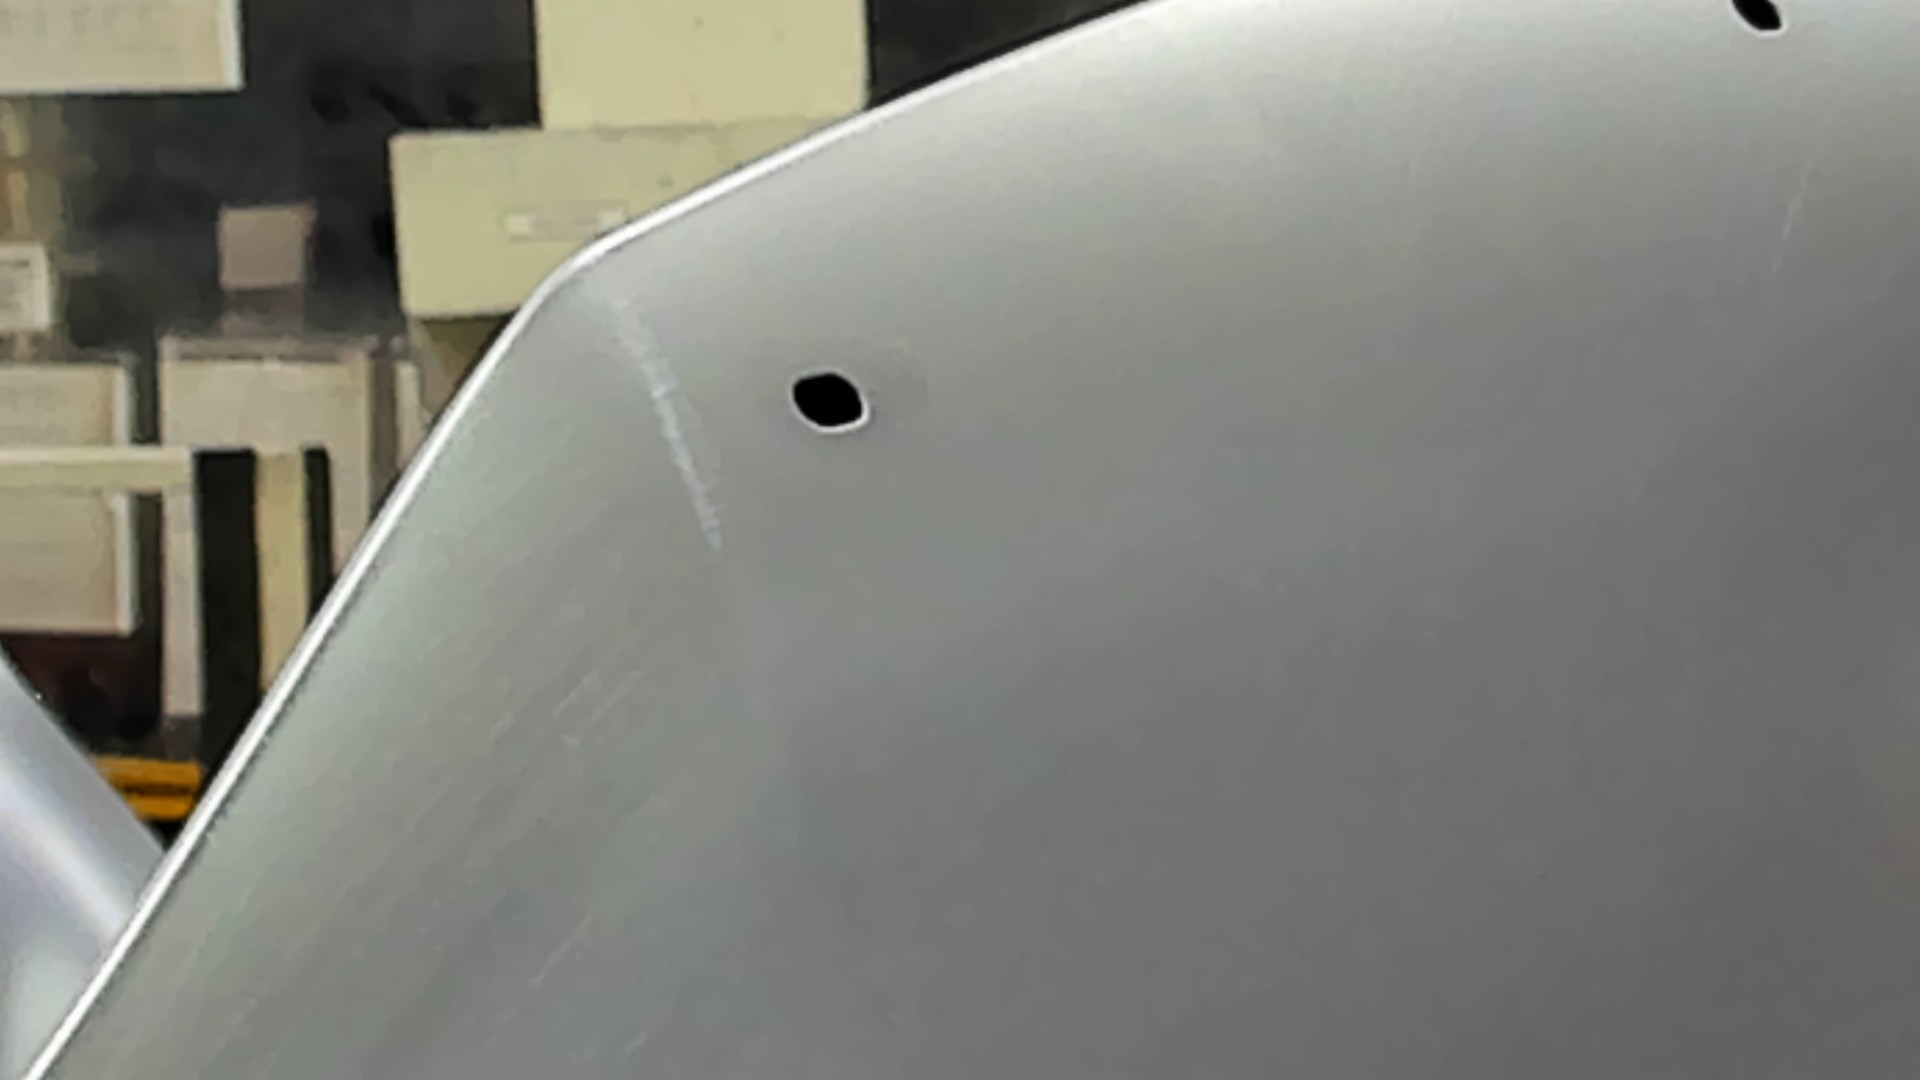amorfo: (787, 367, 876, 438), (1725, 1, 1793, 40)
capo: (980, 87, 1920, 1080)
